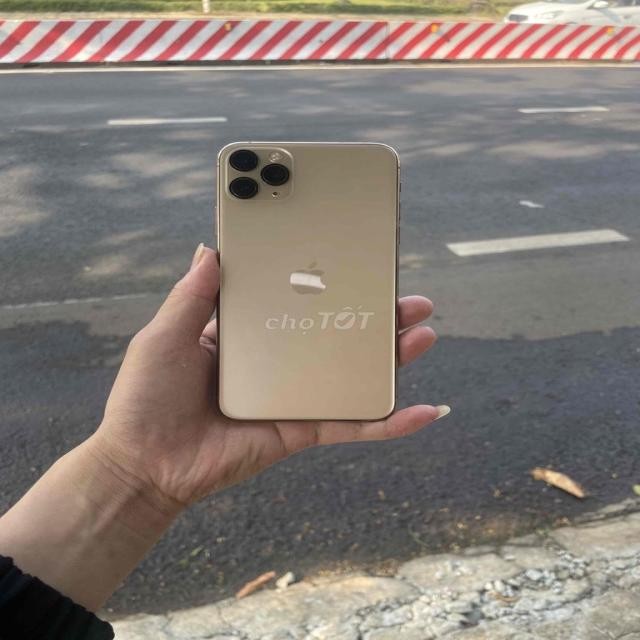gen_11: (200, 125, 416, 432)
